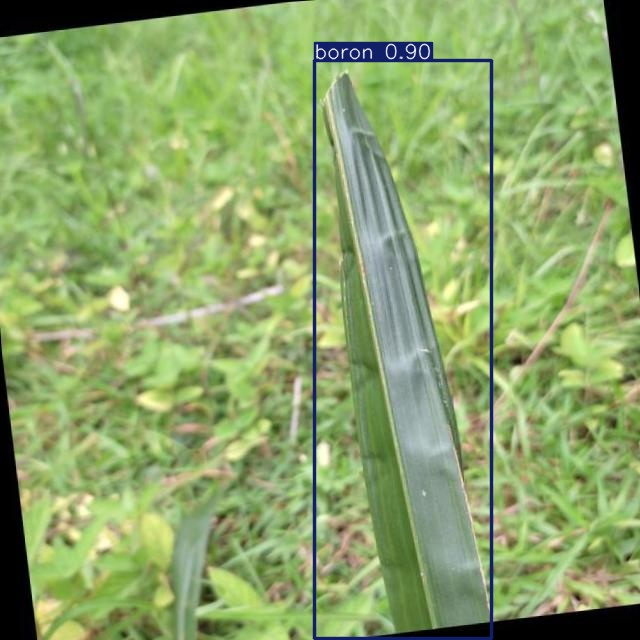nitrogen: (315, 60, 492, 639)
